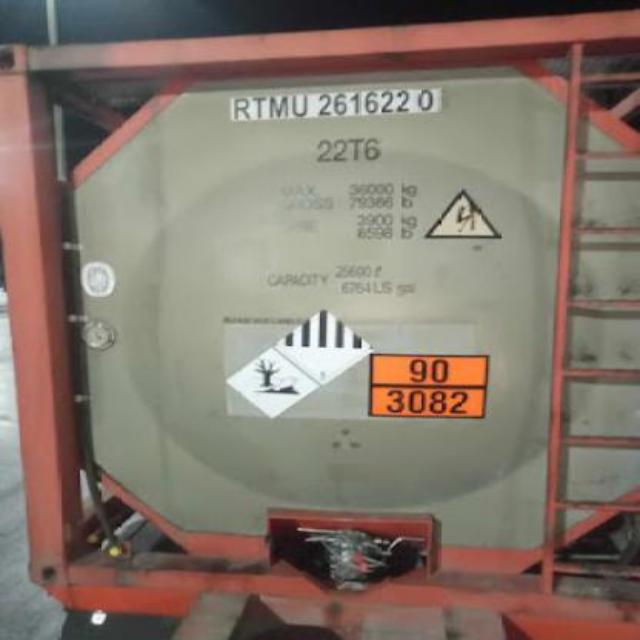0: (416, 86, 436, 114)
1: (348, 90, 362, 116)
2: (394, 88, 412, 114), (378, 90, 394, 116), (316, 93, 332, 117)
6: (332, 92, 350, 118), (362, 89, 378, 115)
M: (267, 96, 289, 120)
R: (230, 97, 250, 123)
T: (252, 94, 266, 120)
U: (291, 94, 309, 118)
